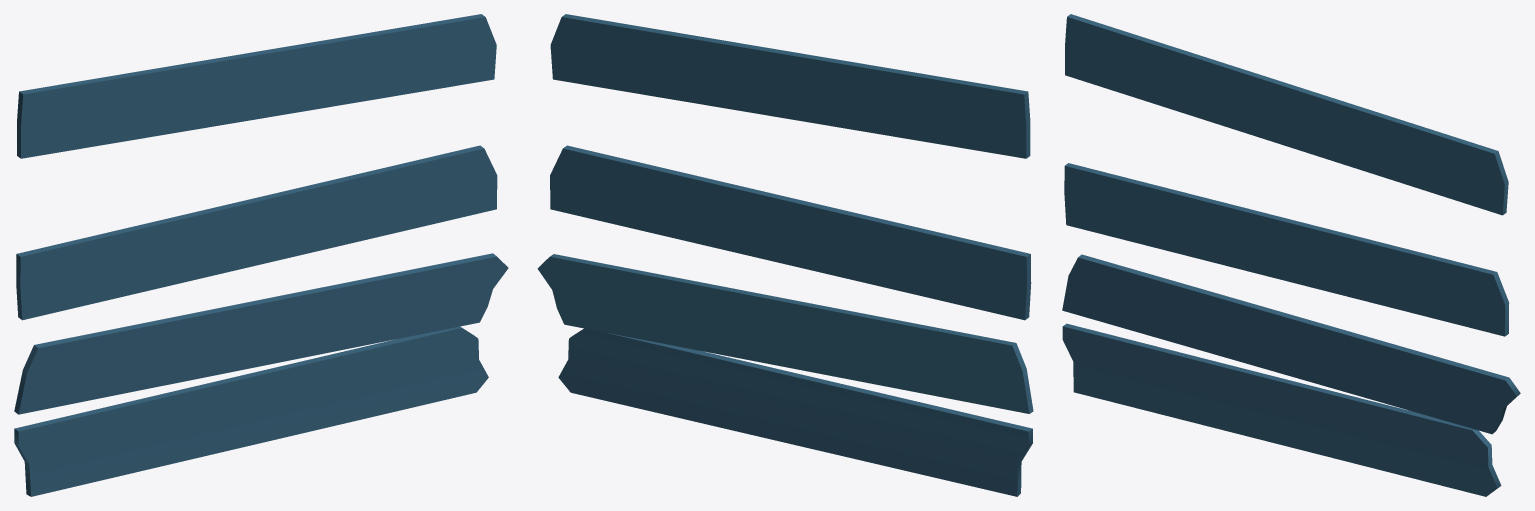
Rendered from Boards_Blocker_01.fbx.
3 views of the same model, side by side, from view 1: azimuth 30°, elevation 25°; view 2: azimuth 150°, elevation 25°; view 3: azimuth 330°, elevation 25° (orthographic). The views are drawn at different scales.
Visible parts, largest first — view 1: Boards_Blocker_01; view 2: Boards_Blocker_01; view 3: Boards_Blocker_01.
Boxes of the visible parts, x1,y1,x2,y2 form: Boards_Blocker_01: (14,14,508,496); Boards_Blocker_01: (537,14,1033,496); Boards_Blocker_01: (1062,14,1520,496).
Size of the model in its own units: 189 by 150 by 4.9.
